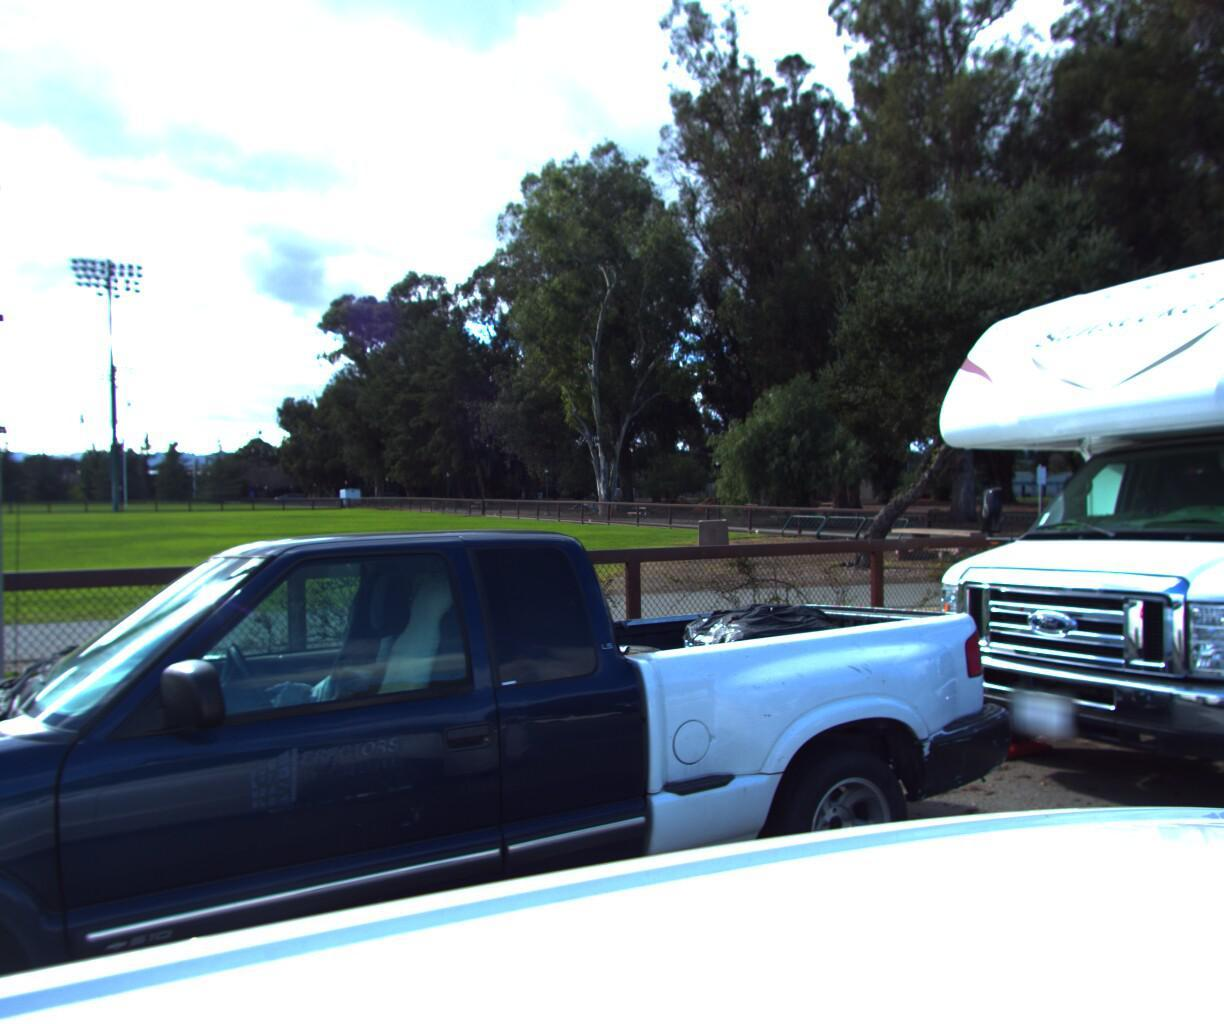car: (0, 504, 1046, 1024)
other_vehicle: (857, 76, 1224, 900)
